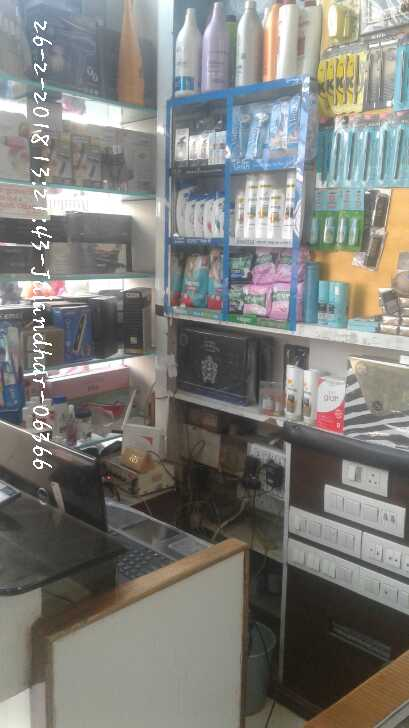gillete: (335, 283, 350, 328), (318, 283, 329, 323), (329, 283, 335, 328)
venus: (268, 93, 302, 160), (229, 106, 250, 164), (250, 106, 268, 159)
